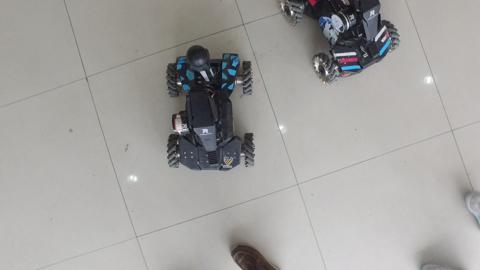chariot: (160, 42, 266, 176), (276, 1, 402, 90)
